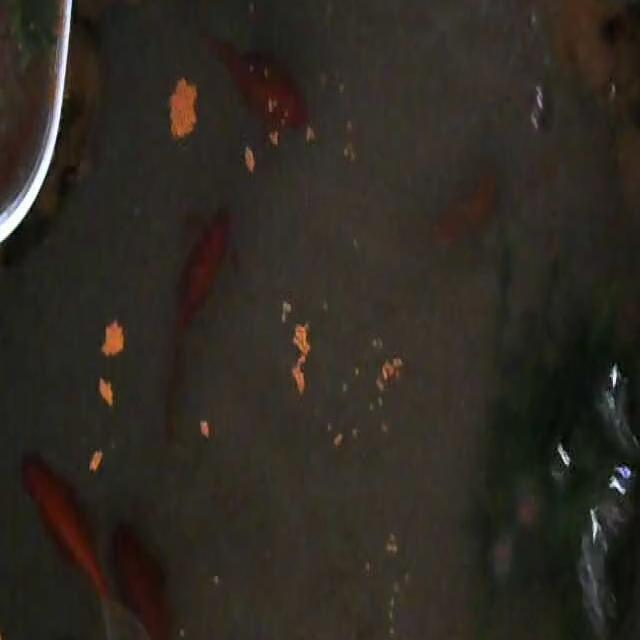fish: (20, 445, 124, 637), (160, 203, 231, 440), (204, 28, 310, 146), (111, 517, 184, 640), (431, 170, 500, 249)
